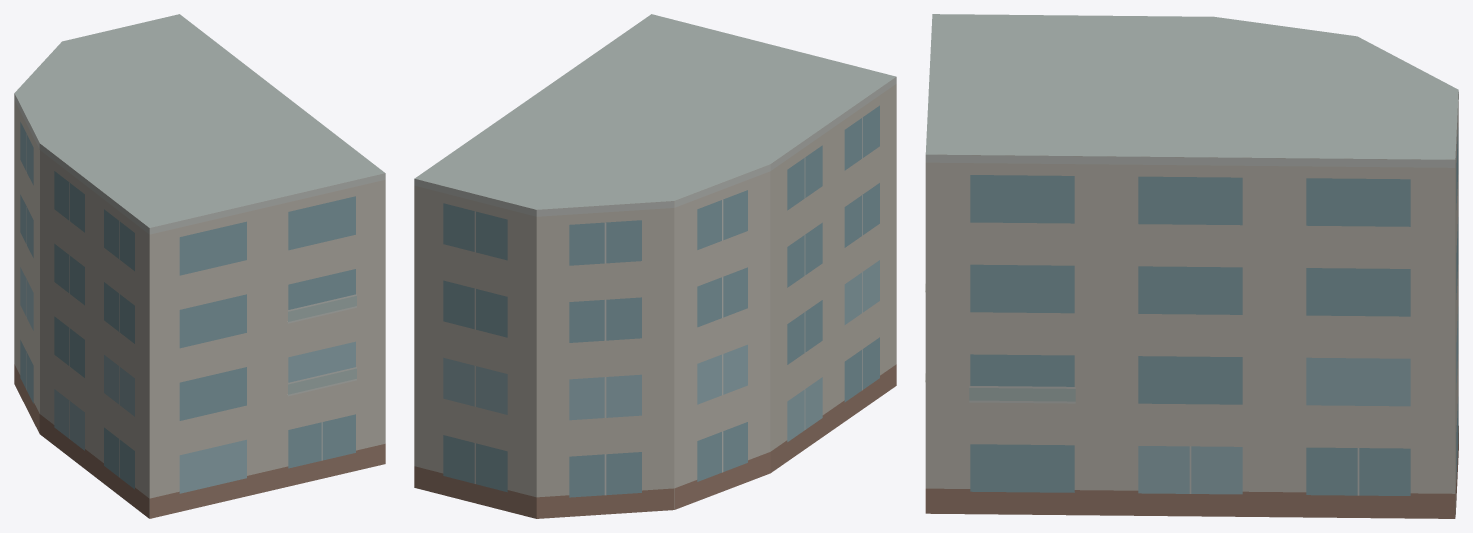
File: survey-upis-32876220.glb
3 renders of one model, left to right at view 1: azimuth 30°, elevation 25°; view 2: azimuth 150°, elevation 25°; view 3: azimuth 270°, elevation 25°, orthographic. The views are drawn at different scales.
Parts seen in each view (by area): view 1: survey-upis-32876220.tmp; view 2: survey-upis-32876220.tmp; view 3: survey-upis-32876220.tmp.
Boxes of the visible parts, box(x1,y1,x2,y2) form: survey-upis-32876220.tmp: box(14, 14, 385, 518); survey-upis-32876220.tmp: box(414, 14, 896, 518); survey-upis-32876220.tmp: box(925, 14, 1458, 518).
Bounding box in the file's own units: 9.41 × 10.8 × 14.55.
